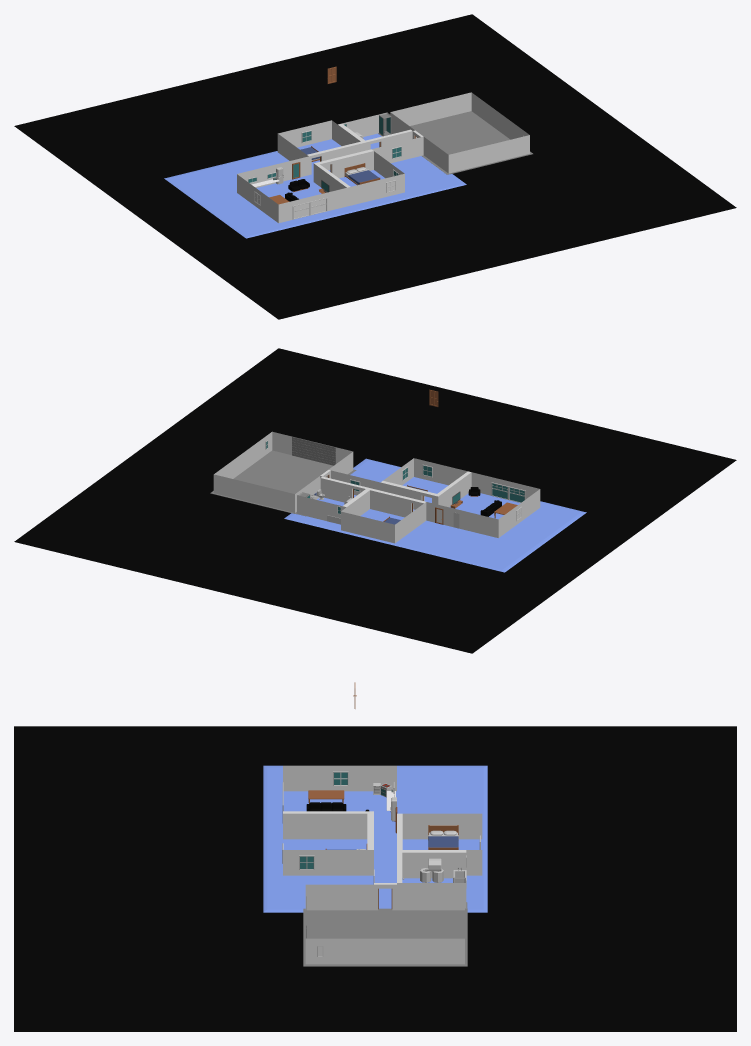
3 renders of one model, top to bottom at view 1: azimuth 30°, elevation 25°; view 2: azimuth 150°, elevation 25°; view 3: azimuth 270°, elevation 25°, orthographic. The views are drawn at different scales.
Parts seen in each view (by area): view 1: Base, House-col, Carpet B -col, Garage.col; view 2: Base, House-col, Carpet B -col, Garage.col; view 3: Base, House-col, Carpet B -col, Garage.col, Bed 2 -col.
Part boxes in pixels (left/top/right/bottom): Base: left=14, top=14, right=736, bottom=319; House-col: left=237, top=92, right=529, bottom=223; Carpet B -col: left=164, top=133, right=466, bottom=238; Garage.col: left=410, top=111, right=532, bottom=174; Base: left=14, top=348, right=736, bottom=653; House-col: left=213, top=431, right=540, bottom=543; Carpet B -col: left=284, top=458, right=586, bottom=572; Garage.col: left=210, top=436, right=356, bottom=514; Base: left=14, top=726, right=736, bottom=1031; House-col: left=283, top=765, right=482, bottom=964; Carpet B -col: left=263, top=765, right=487, bottom=912; Garage.col: left=303, top=896, right=467, bottom=966; Bed 2 -col: left=428, top=825, right=458, bottom=849.
Size of the model in its own units: 102 by 25.04 by 102.
